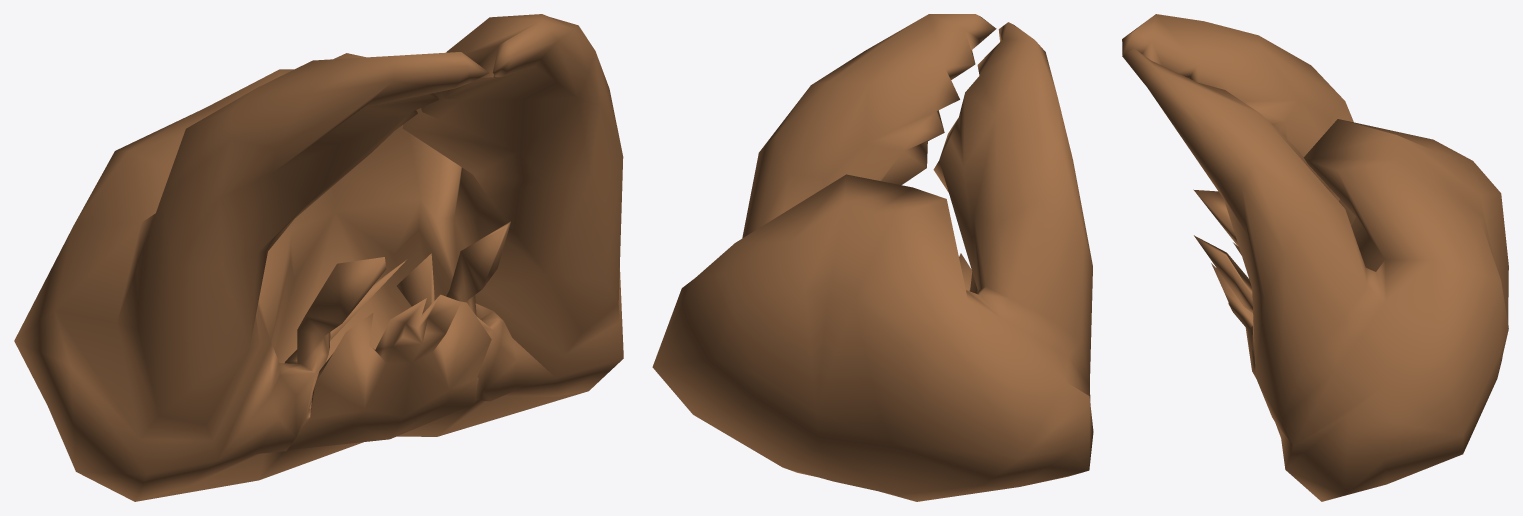
Rendered from Waspoid.fbx.
The picture shows the model from 3 angles, left to right: view 1: azimuth 30°, elevation 25°; view 2: azimuth 150°, elevation 25°; view 3: azimuth 270°, elevation 25°; orthographic projection. The views are drawn at different scales.
Visible parts, largest first — view 1: Waspoid - MAVG; view 2: Waspoid - MAVG; view 3: Waspoid - MAVG.
Boxes of the visible parts, x1,y1,x2,y2 form: Waspoid - MAVG: (14, 14, 623, 501); Waspoid - MAVG: (652, 14, 1093, 501); Waspoid - MAVG: (1122, 14, 1508, 501).
Bounding box in the file's own units: 94.12 × 85.38 × 74.72.
